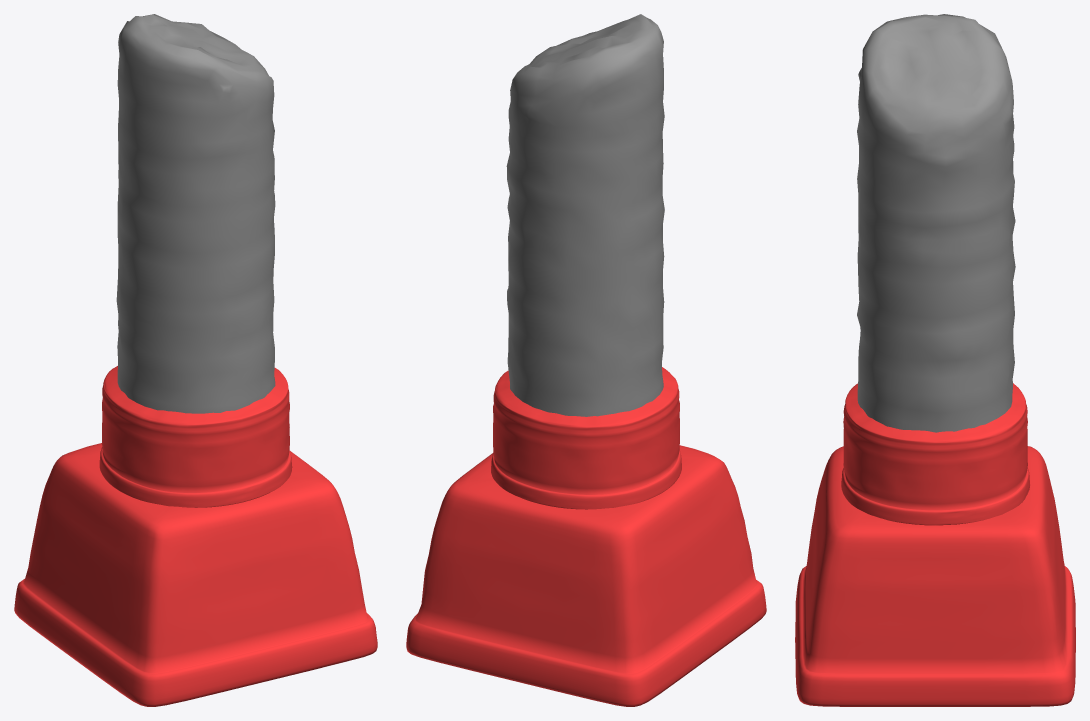
File: DpillarA.FBX
3 views of the same model, side by side, from view 1: azimuth 30°, elevation 25°; view 2: azimuth 150°, elevation 25°; view 3: azimuth 270°, elevation 25° (orthographic).
Parts seen in each view (by area): view 1: pedestal, DpillarA; view 2: pedestal, DpillarA; view 3: pedestal, DpillarA.
Part boxes in pixels (x1,y1,x2,y2): pedestal: (14, 366, 377, 706); DpillarA: (116, 14, 275, 413); pedestal: (406, 367, 766, 706); DpillarA: (506, 14, 664, 416); pedestal: (795, 383, 1075, 706); DpillarA: (857, 14, 1015, 432).
Bounding box in the file's own units: 0.5835 × 1.4 × 0.5835.
